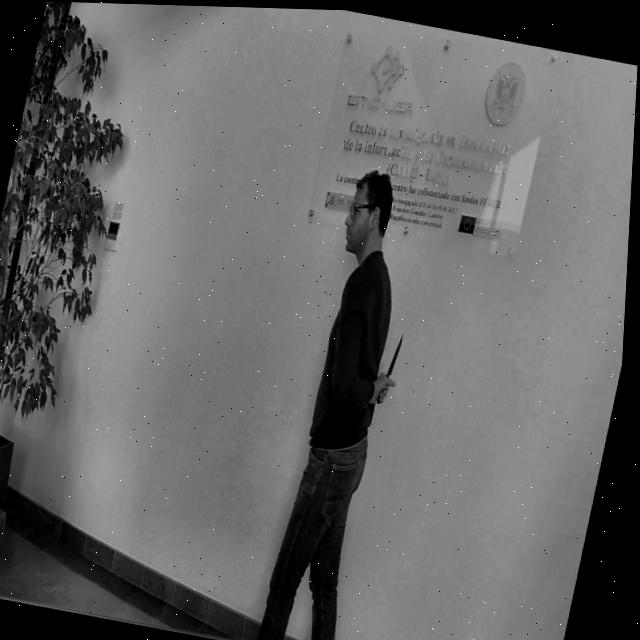knife: (385, 327, 412, 376)
